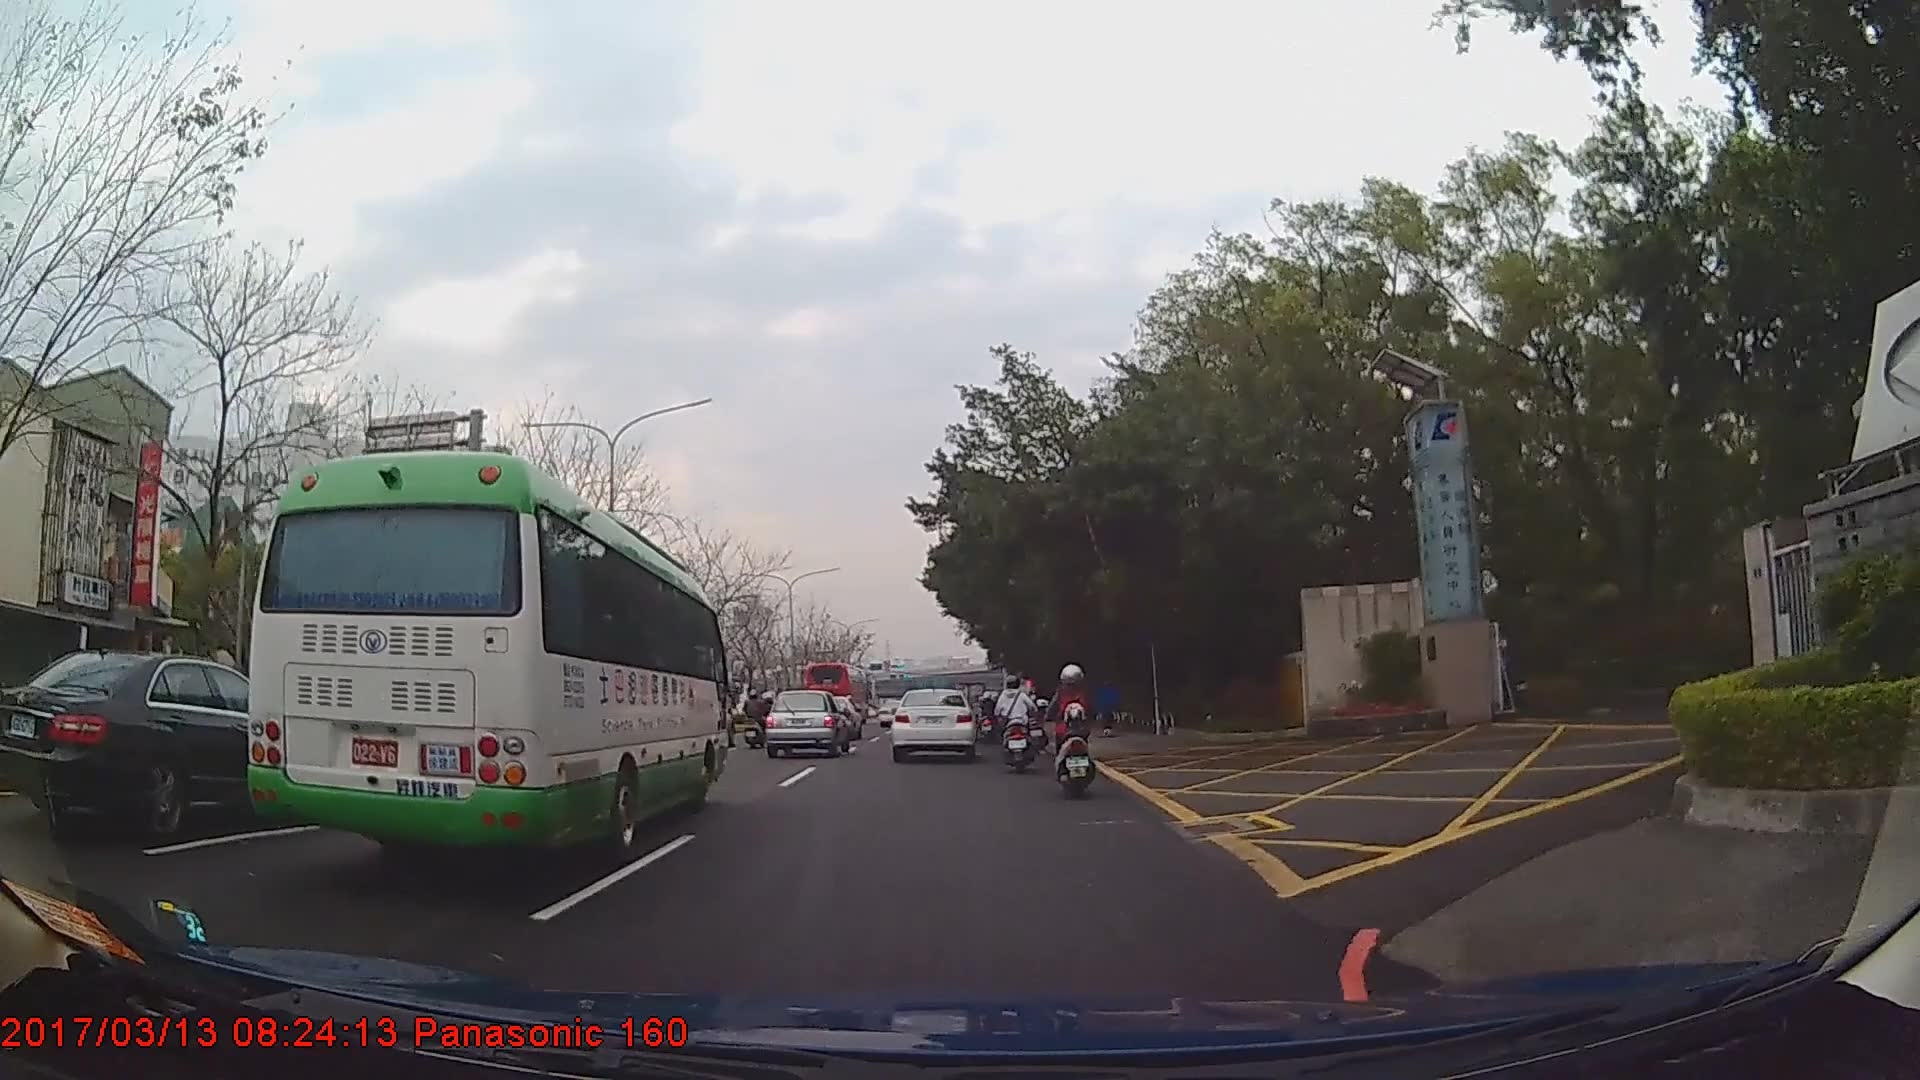pedestrian: (1092, 675, 1117, 738)
rider: (1049, 664, 1096, 803), (993, 679, 1037, 777), (745, 688, 771, 742), (1025, 691, 1047, 754)
vehicle: (243, 448, 727, 860), (4, 647, 342, 839), (888, 685, 976, 761), (762, 687, 851, 757), (801, 661, 869, 727)
